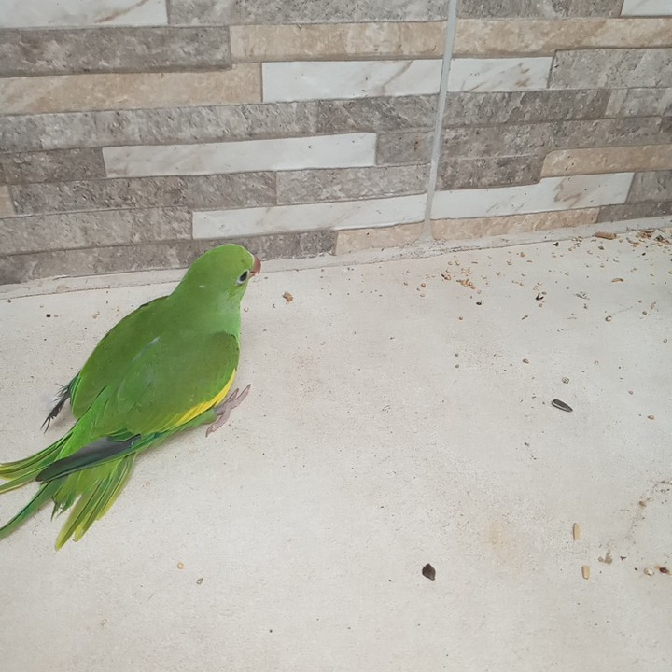Not_a_Chicken: (19, 230, 265, 560)
